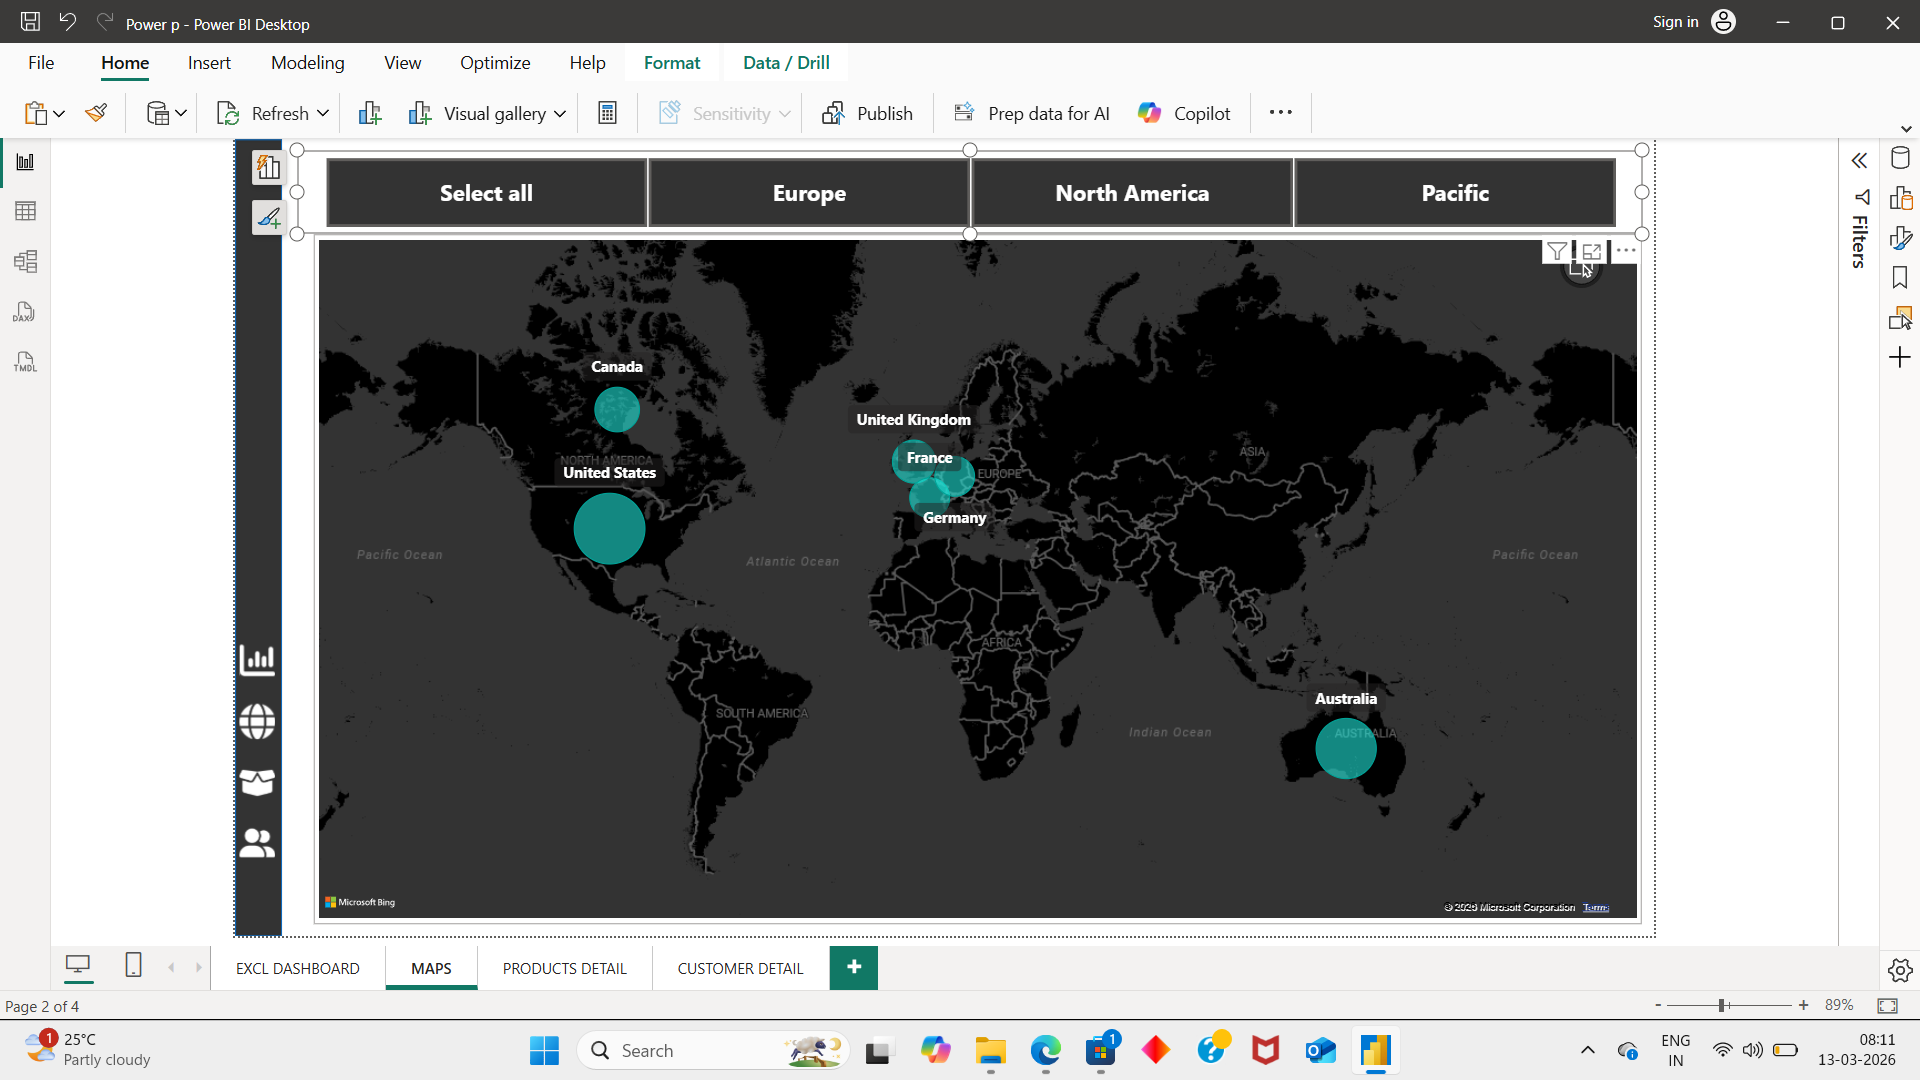

The dashboard page shown, as its layout file describes it:
{"tool":"powerbi","page":{"name":"MAPS","canvas":[1280,720],"ordinal":1},"visuals":[{"type":"map","fields":{"Category":["Territory Lookup.Country"],"Size":["Measure Table.Total Orders"]},"box":[71,86.8,1198.1,622.2],"z":0},{"type":"slicer","fields":{"Values":["Territory Lookup.Continent"]},"box":[56.4,11.3,1212.8,75.5],"z":1000},{"type":"shape","box":[0,1.2,42.5,718.8],"z":2000},{"type":"actionButton","box":[0,451.2,42.8,40.4],"z":3000},{"type":"actionButton","box":[0,506.3,42.8,40.4],"z":4000},{"type":"actionButton","box":[0,561.3,42.8,40.4],"z":5000},{"type":"actionButton","box":[0,615.1,42.8,40.4],"z":6000}]}

Visuals, with their boxes on the page's 1280x720 design canvas (x1, y1, x2, y2). These are canvas units, not pixel positions in the 1920x1080 screenshot, which may show the page scaled, cropped or inside an application window:
map - Territory Lookup.Country x Measure Table.Total Orders: <bbox>71, 87, 1269, 709</bbox>
slicer - Territory Lookup.Continent: <bbox>56, 11, 1269, 87</bbox>
shape: <bbox>0, 1, 42, 720</bbox>
actionButton: <bbox>0, 451, 43, 492</bbox>
actionButton: <bbox>0, 506, 43, 547</bbox>
actionButton: <bbox>0, 561, 43, 602</bbox>
actionButton: <bbox>0, 615, 43, 656</bbox>
